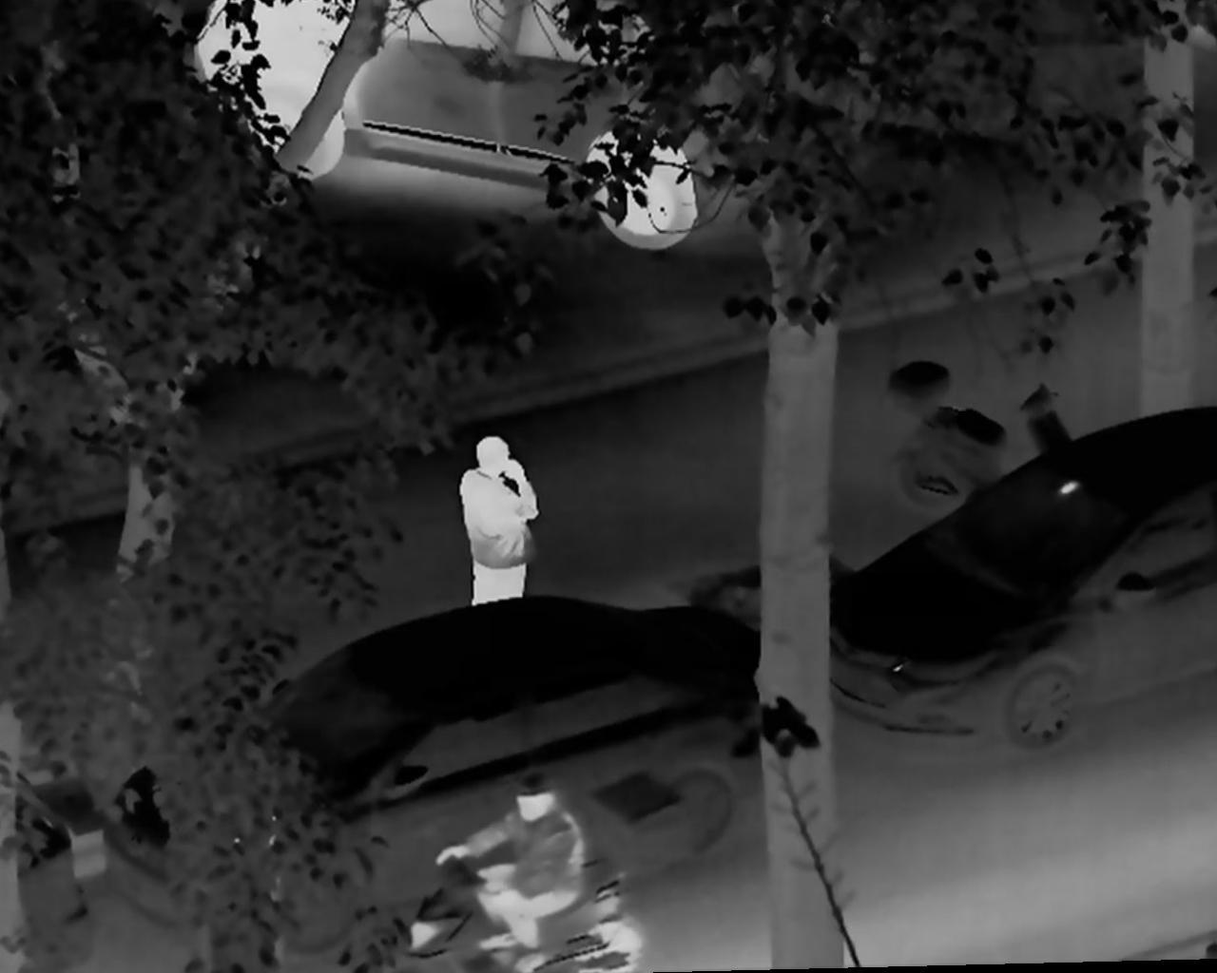person: (434, 770, 588, 973), (449, 436, 541, 608)
